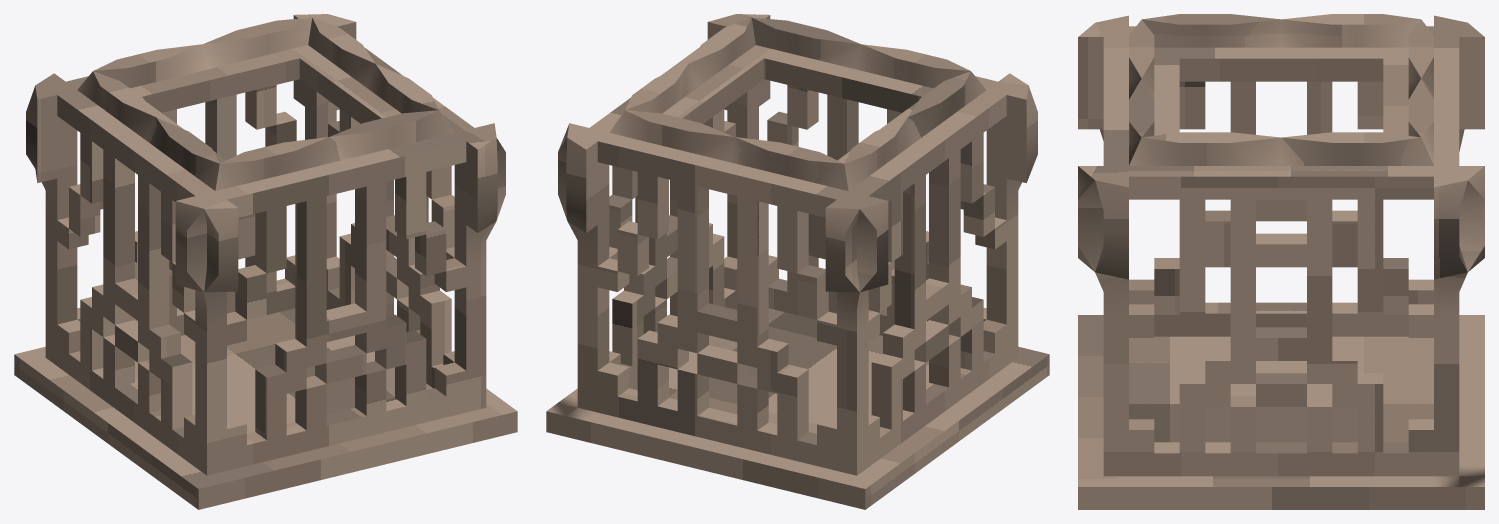
The model's file is bcage.obj.
3 views of the same model, side by side, from view 1: azimuth 30°, elevation 25°; view 2: azimuth 150°, elevation 25°; view 3: azimuth 270°, elevation 25° (orthographic). The views are drawn at different scales.
Parts seen in each view (by area): view 1: bcage; view 2: bcage; view 3: bcage.
Boxes of the visible parts, x1,y1,x2,y2 form: bcage: (14, 14, 517, 509); bcage: (546, 14, 1049, 509); bcage: (1078, 14, 1484, 509).
Bounding box in the file's own units: 0.6739 × 0.6318 × 0.6739.
